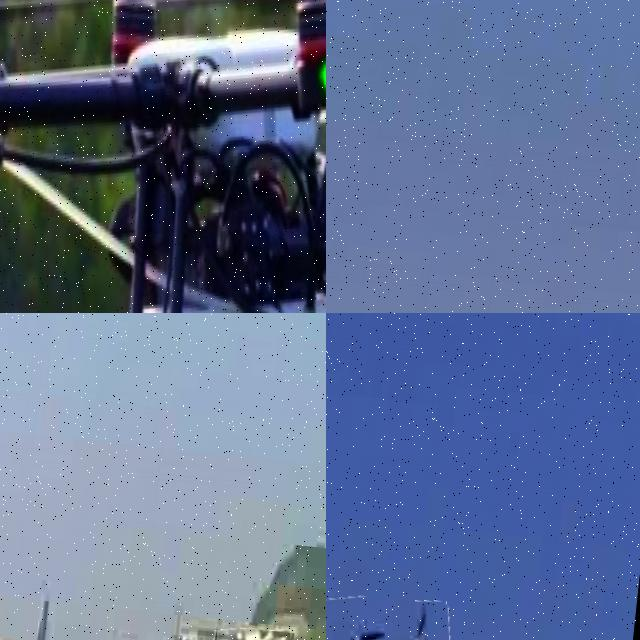drone: (0, 0, 326, 313), (210, 624, 294, 640)
